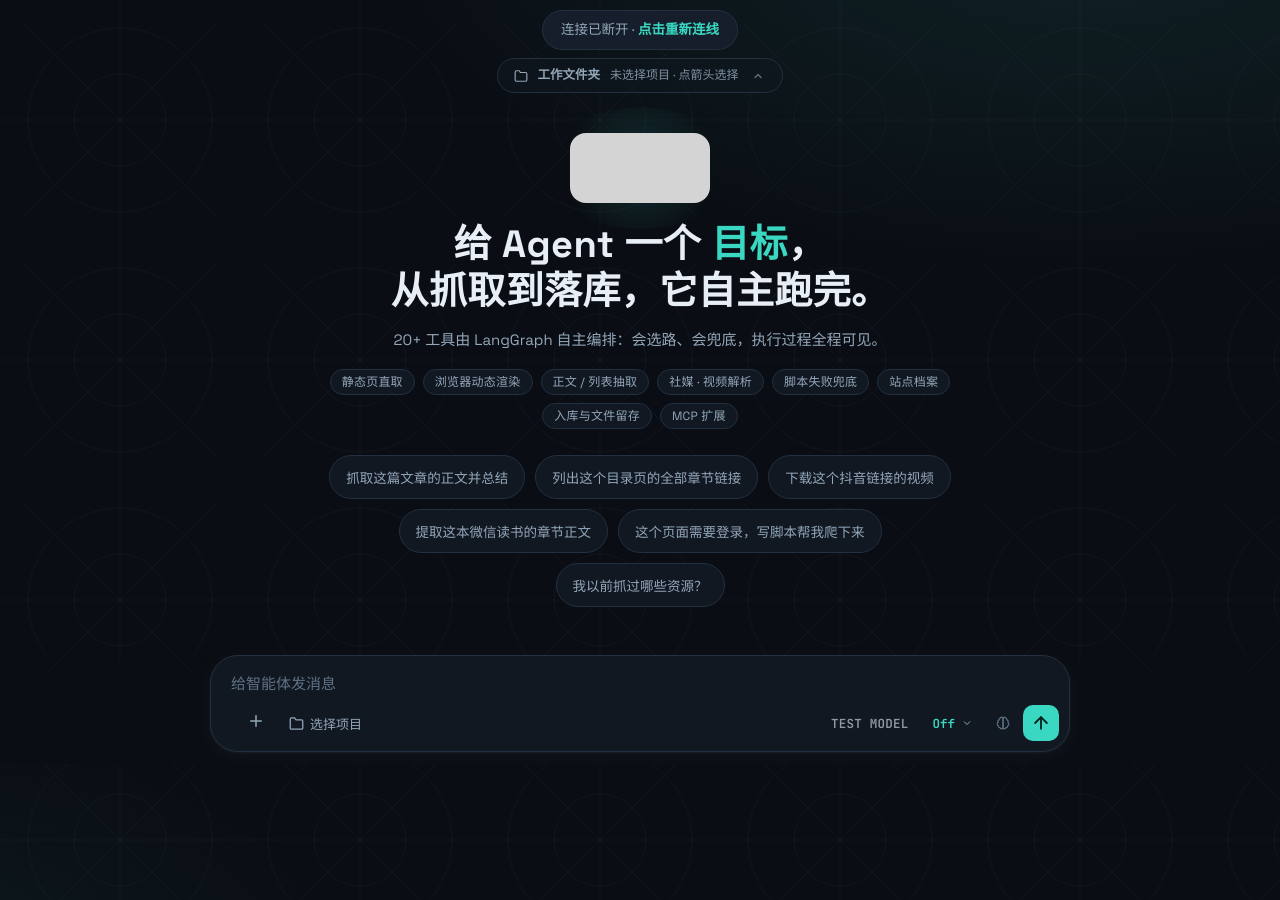
ChatPage › 未绑定点箭头 → 历史菜单弹出 + 拉历史（含打开新项目，无清除）
Click the button with class "wd-switch". click: coordinates (758, 76)
box: [748, 66, 768, 86]
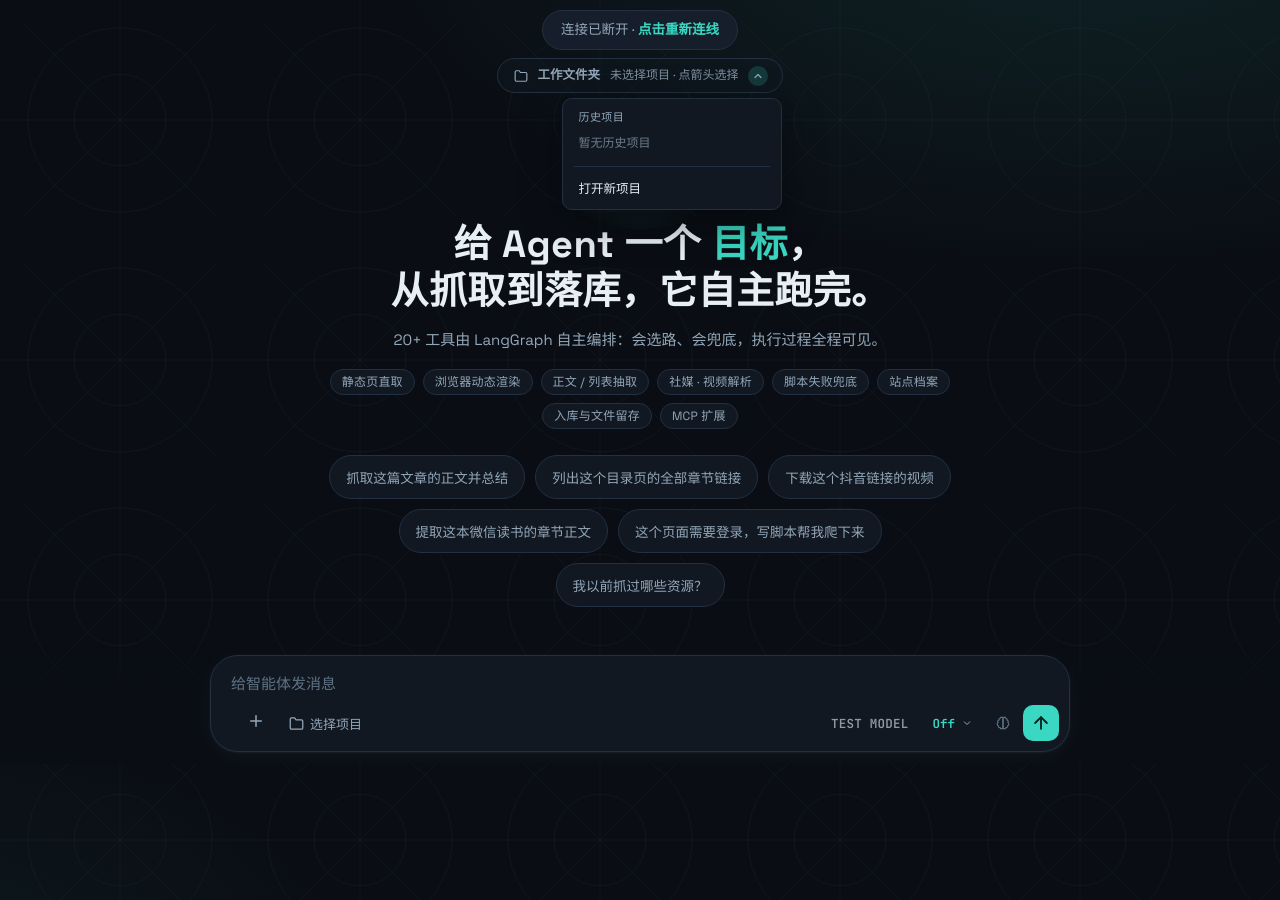
expect the menu with class "wd-menu" is shown: met, box [562, 98, 782, 210]
expect the text with class "wd-menu-empty" reads "暂无历史项目": met, box [578, 135, 650, 151]
expect the number of menu items with class "wd-menu-action" is 1: met, box [568, 171, 776, 204]
